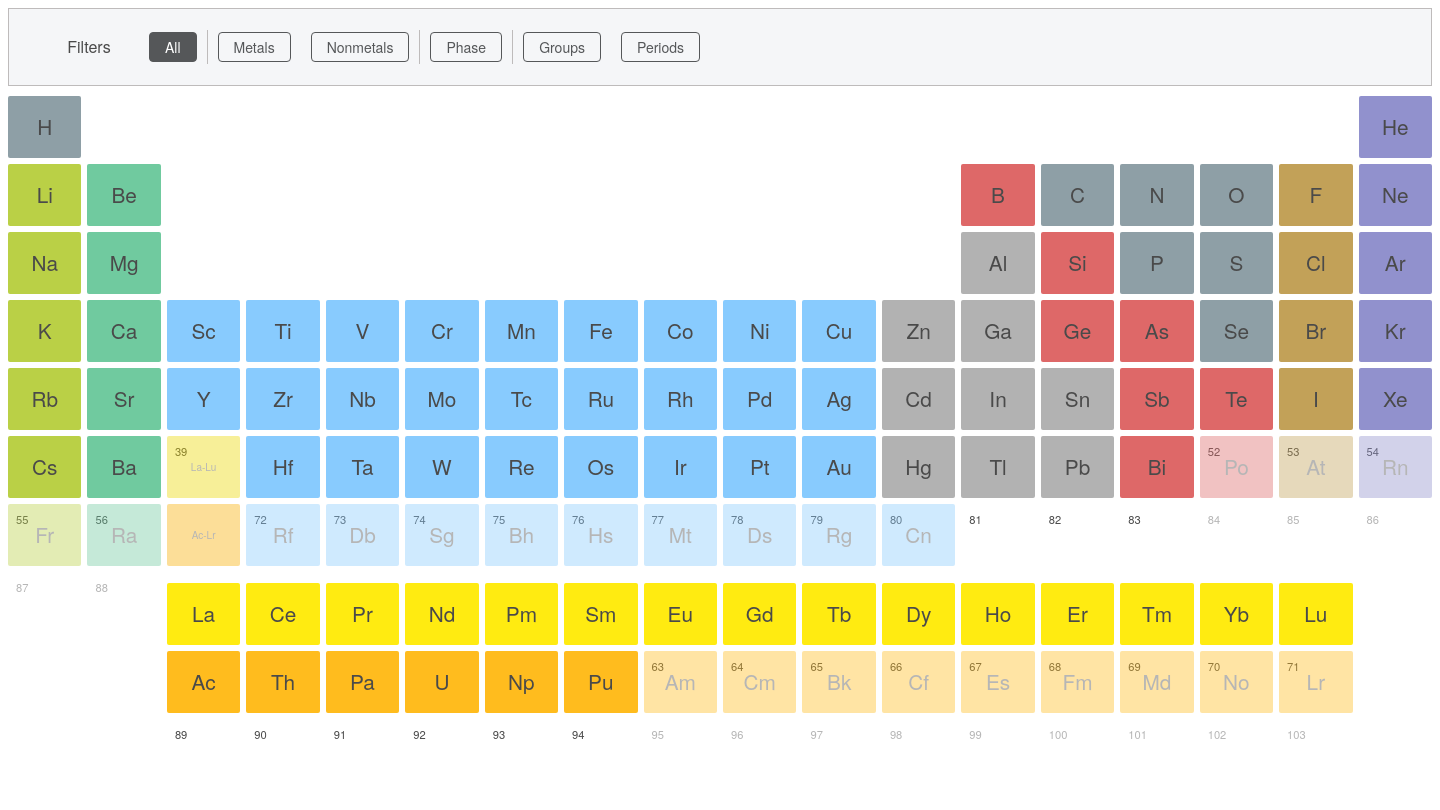
it: TableFilter › updates the shared periodic table hidden state through PeriodicContext
This screenshot has width=1440, height=810.
What coordinates should you click on to do the following:
click the button "Phase"
I would click on:
 (466, 47)
Its box is x1=430 y1=32 x2=502 y2=62.
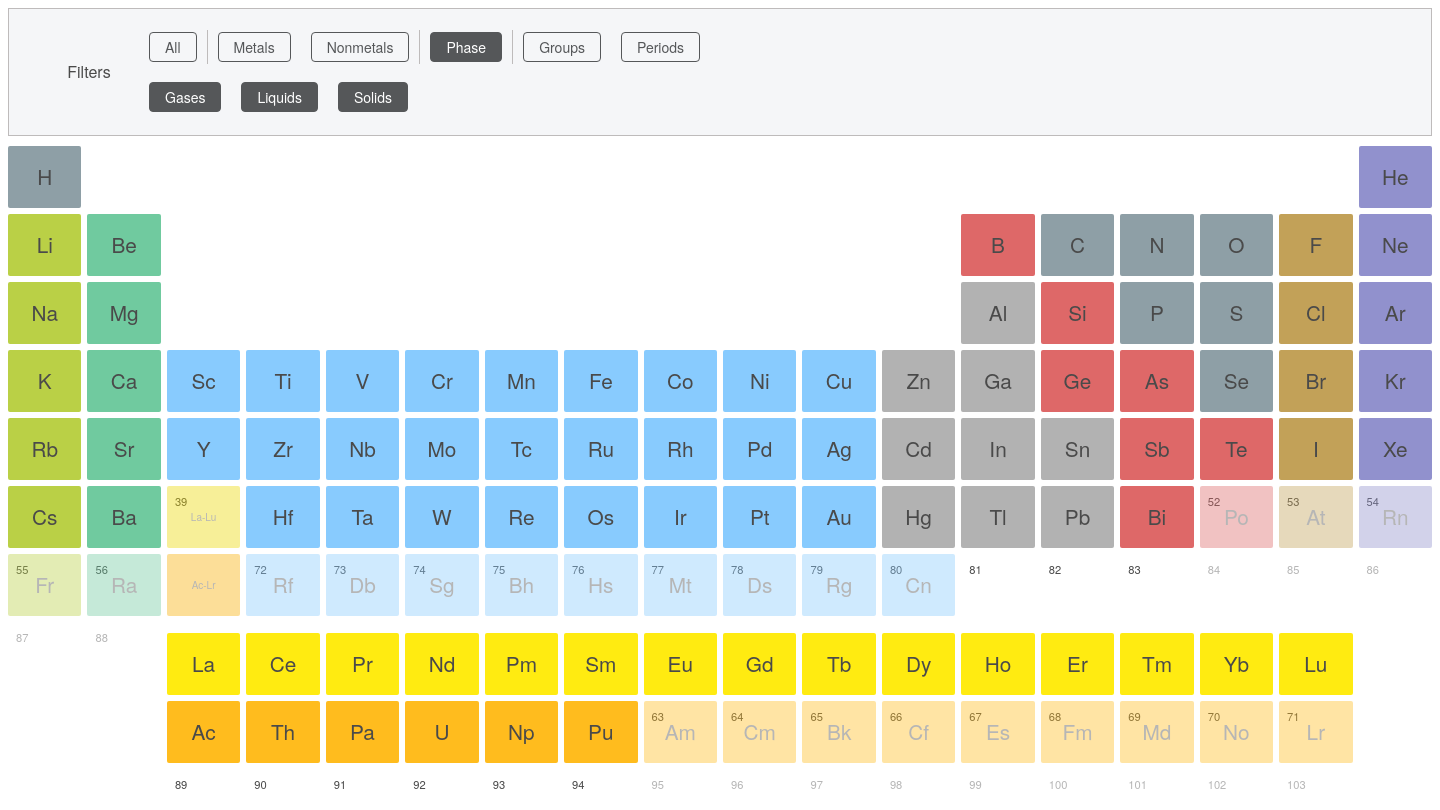
What coordinates should you click on to do the following:
click the button "Gases"
I would click on:
 (185, 97)
Its box is x1=149 y1=82 x2=222 y2=112.
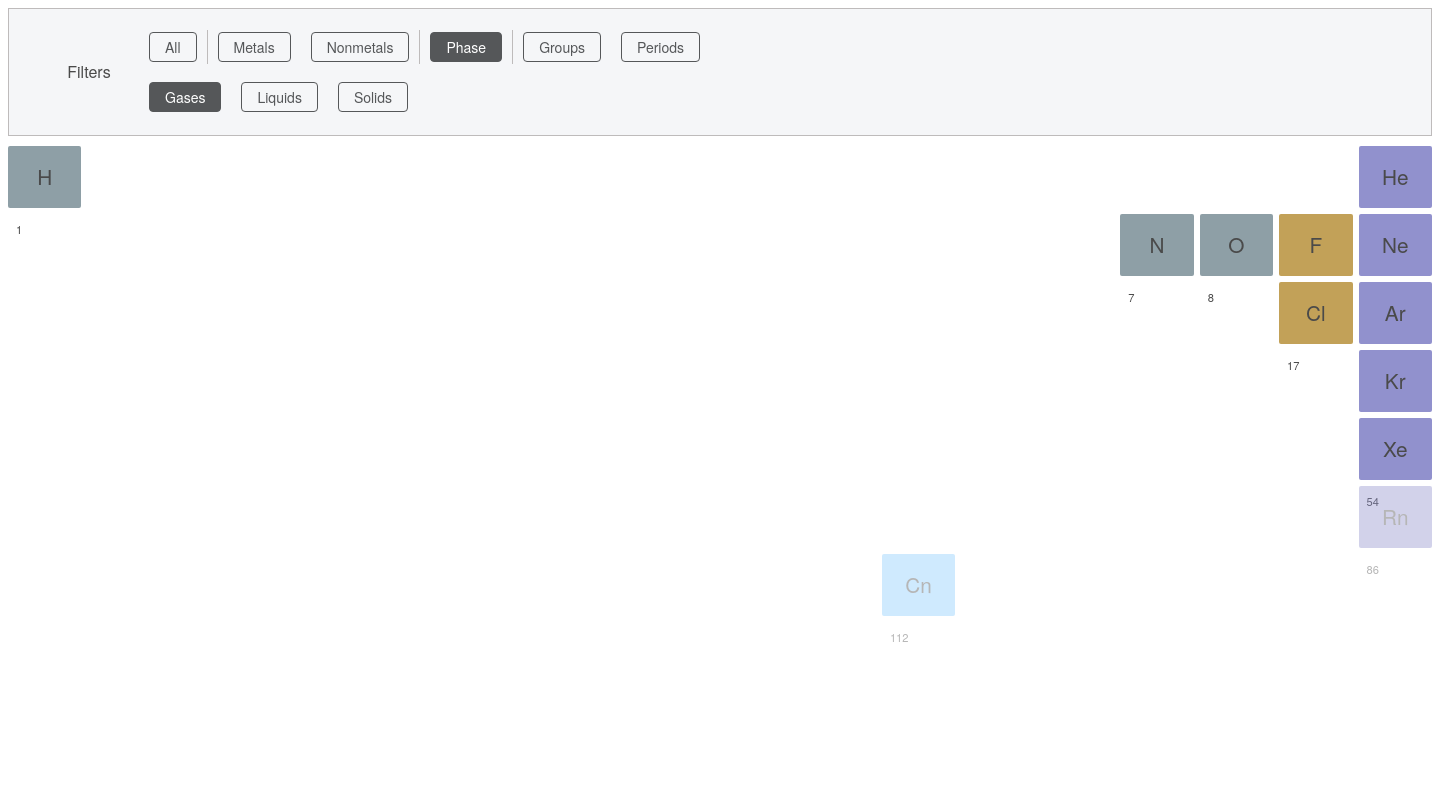
Expected: the button with test id "periodic-element-H" is shown, x1=8 y1=146 x2=81 y2=208
Expected: the button with test id "periodic-element-Fe" is gone
